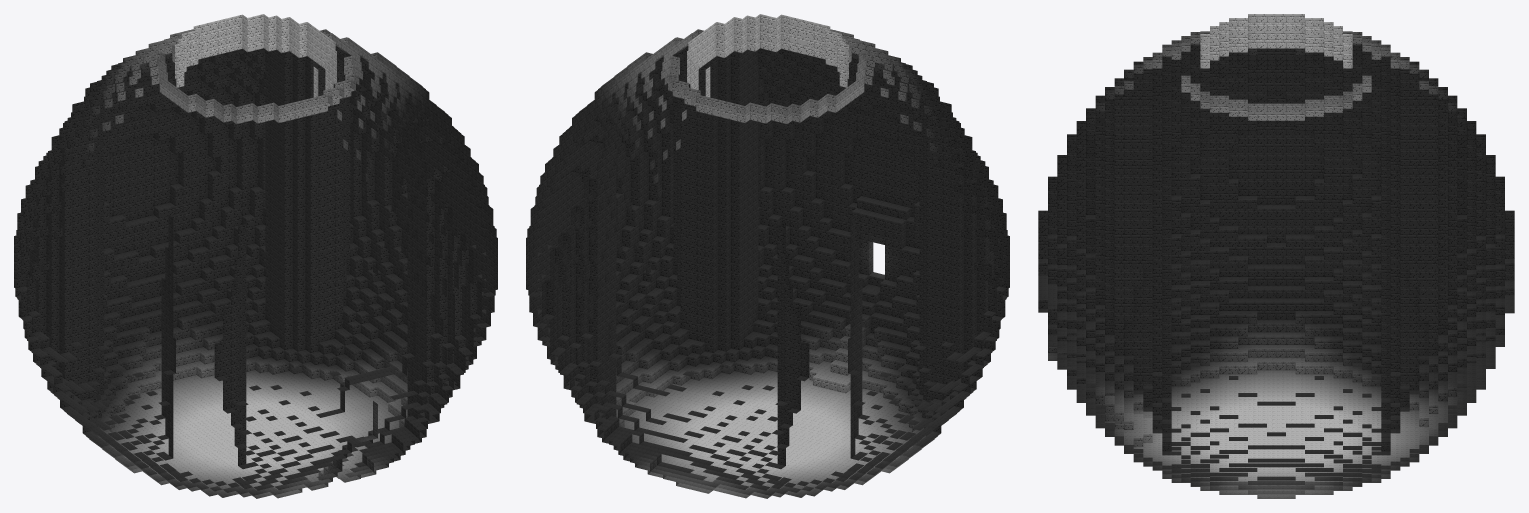
Rendered from temple.glb.
3 renders of one model, left to right at view 1: azimuth 30°, elevation 25°; view 2: azimuth 150°, elevation 25°; view 3: azimuth 270°, elevation 25°, orthographic.
Bounding box in the file's own units: 50 × 45 × 50.
Materials: 1 (1 with a texture image).
